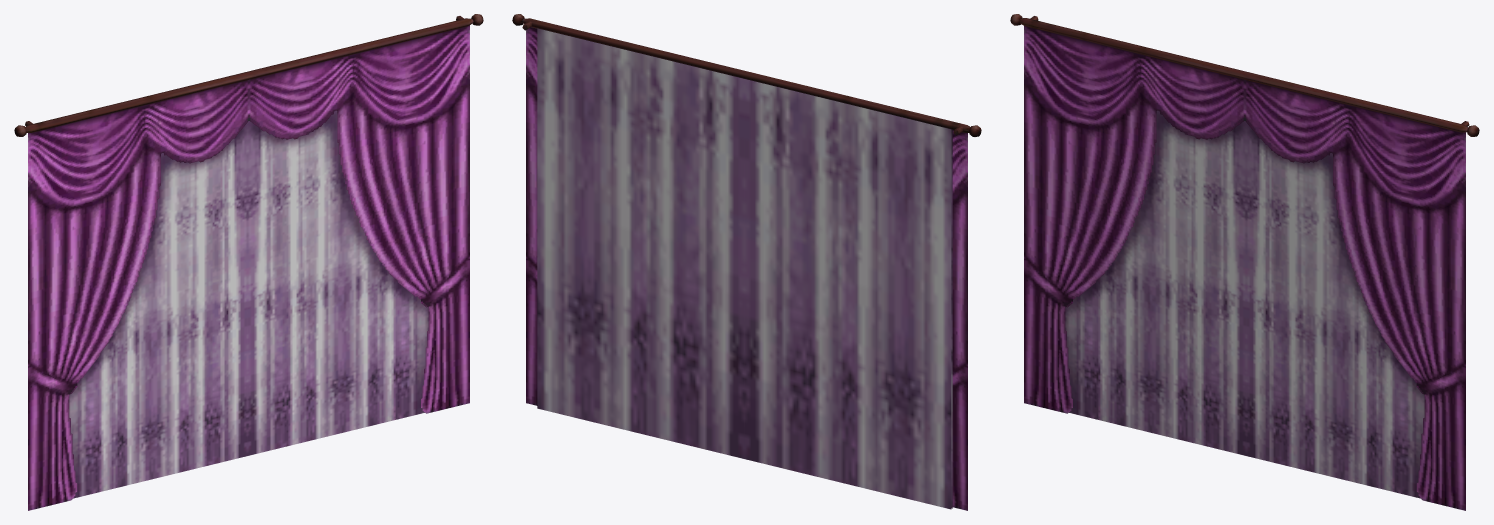
File: furni_0201138_01.FBX
3 views of the same model, side by side, from view 1: azimuth 30°, elevation 25°; view 2: azimuth 150°, elevation 25°; view 3: azimuth 330°, elevation 25° (orthographic).
Visible parts, largest first — view 1: furni_0201138_01; view 2: furni_0201138_01; view 3: furni_0201138_01.
Boxes of the visible parts, box(x1,y1,x2,y2) form: furni_0201138_01: box(14, 14, 483, 510); furni_0201138_01: box(512, 14, 981, 510); furni_0201138_01: box(1010, 14, 1479, 510).
Bounding box in the file's own units: 353 × 279 × 12.24.
2 materials, 2 textured.
